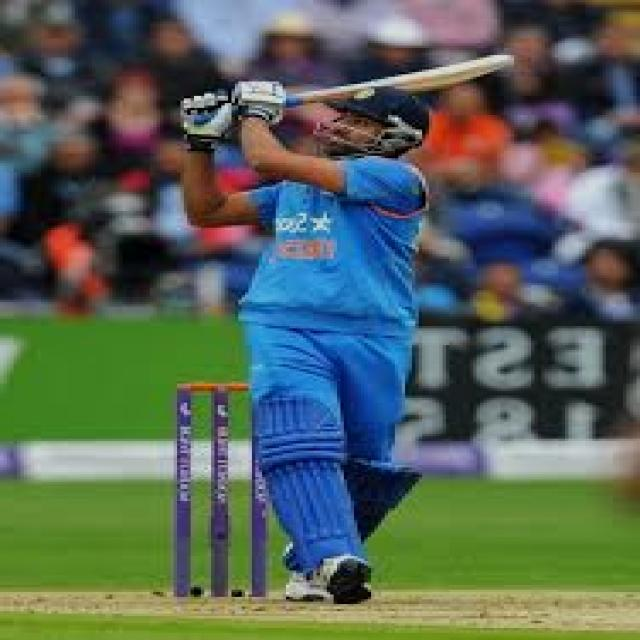toe: (485, 54, 518, 72)
